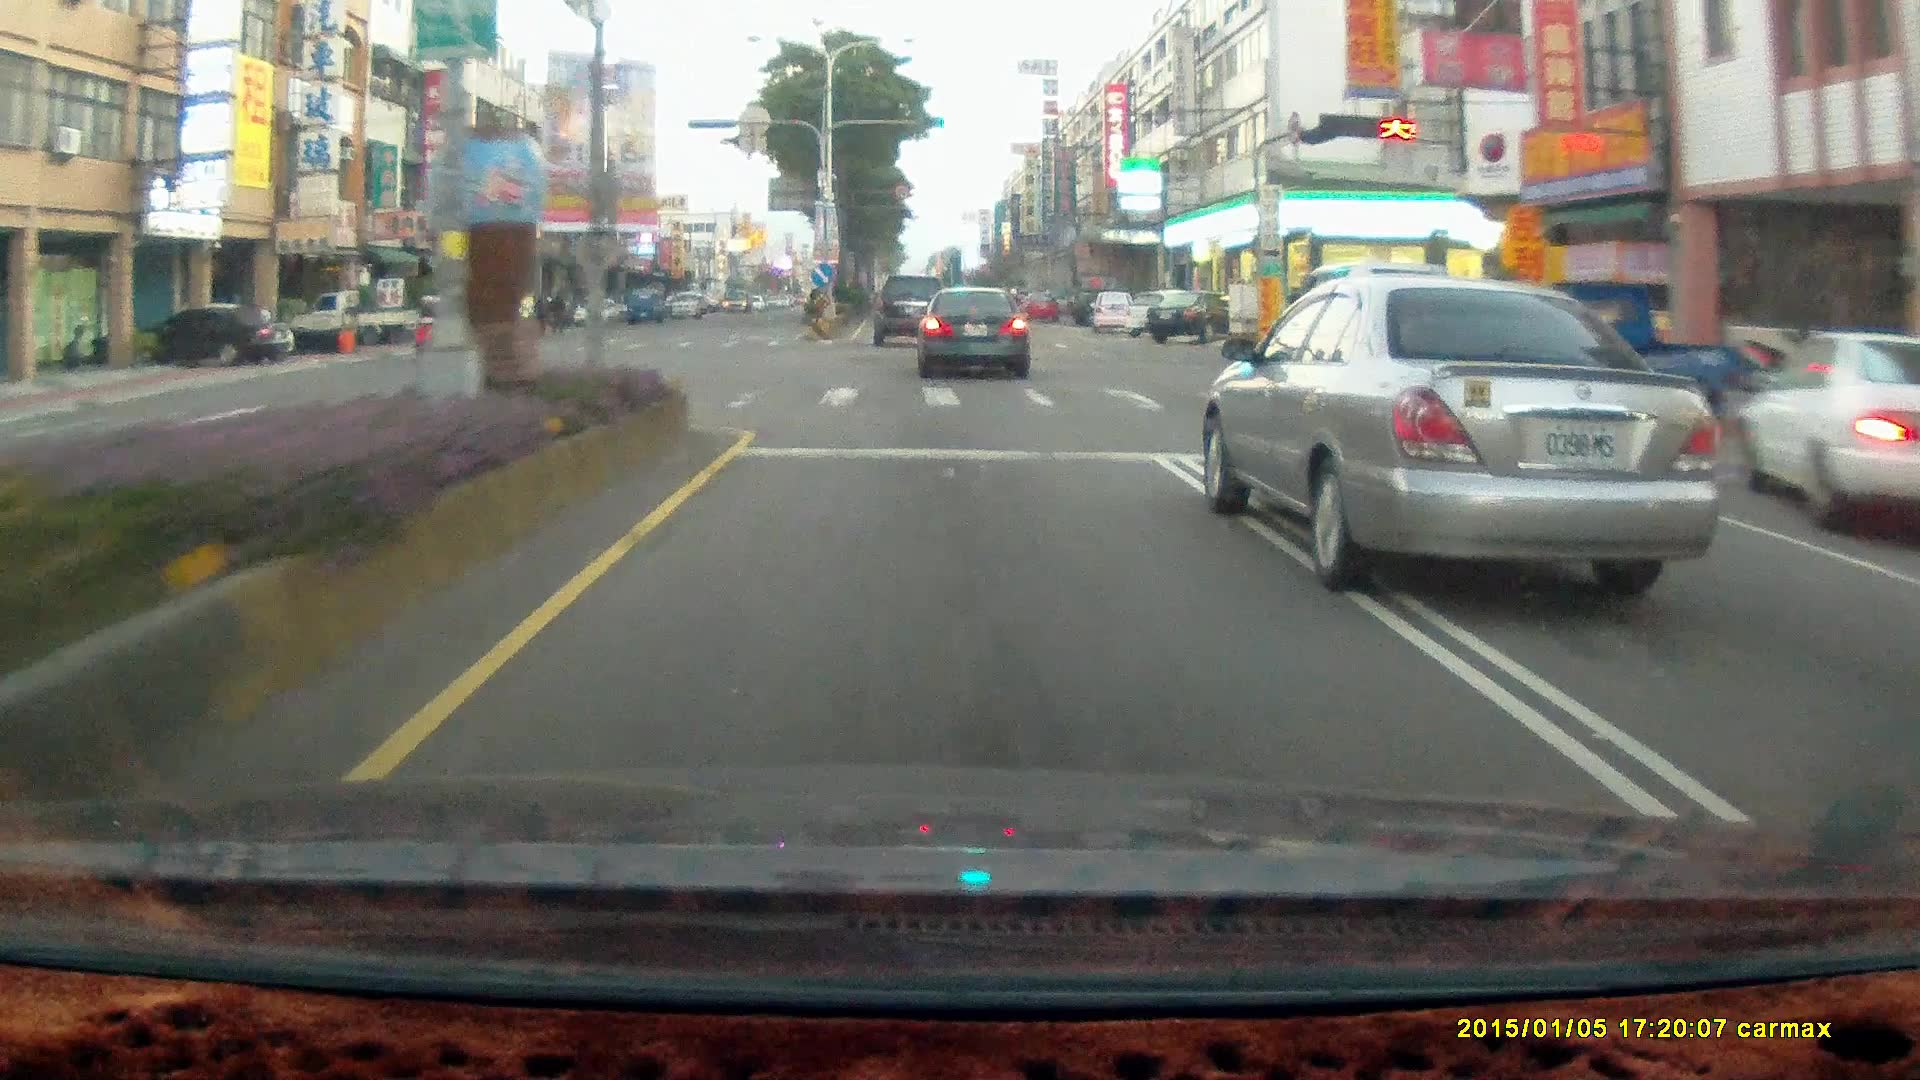pedestrian: (547, 288, 567, 337), (528, 295, 549, 339)
rider: (411, 291, 458, 357)
vehicle: (1197, 270, 1718, 582), (1482, 277, 1740, 442), (1730, 326, 1920, 538), (1741, 329, 1920, 540), (1288, 262, 1499, 405), (917, 283, 1029, 377), (919, 290, 1032, 381), (123, 303, 291, 362), (283, 289, 420, 351), (297, 291, 423, 356), (157, 304, 294, 364), (875, 271, 957, 348), (875, 272, 951, 343), (1146, 285, 1245, 339), (1150, 289, 1234, 349), (1122, 289, 1188, 336), (1066, 284, 1123, 324), (1086, 287, 1137, 330), (1091, 290, 1137, 335), (574, 295, 619, 325), (1019, 288, 1055, 319), (629, 290, 661, 320), (663, 288, 695, 313)
